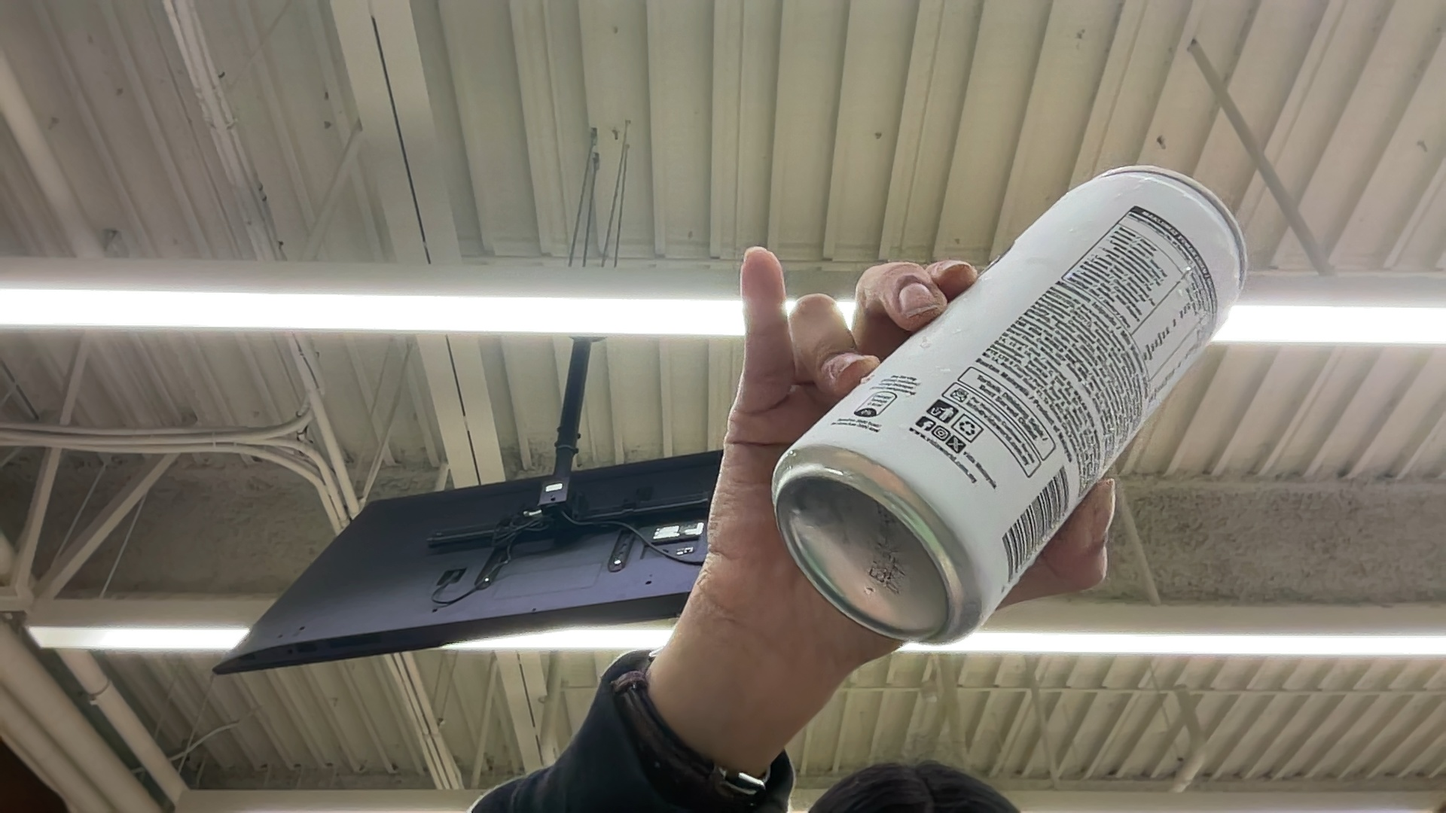Metal: (719, 160, 1312, 655)
